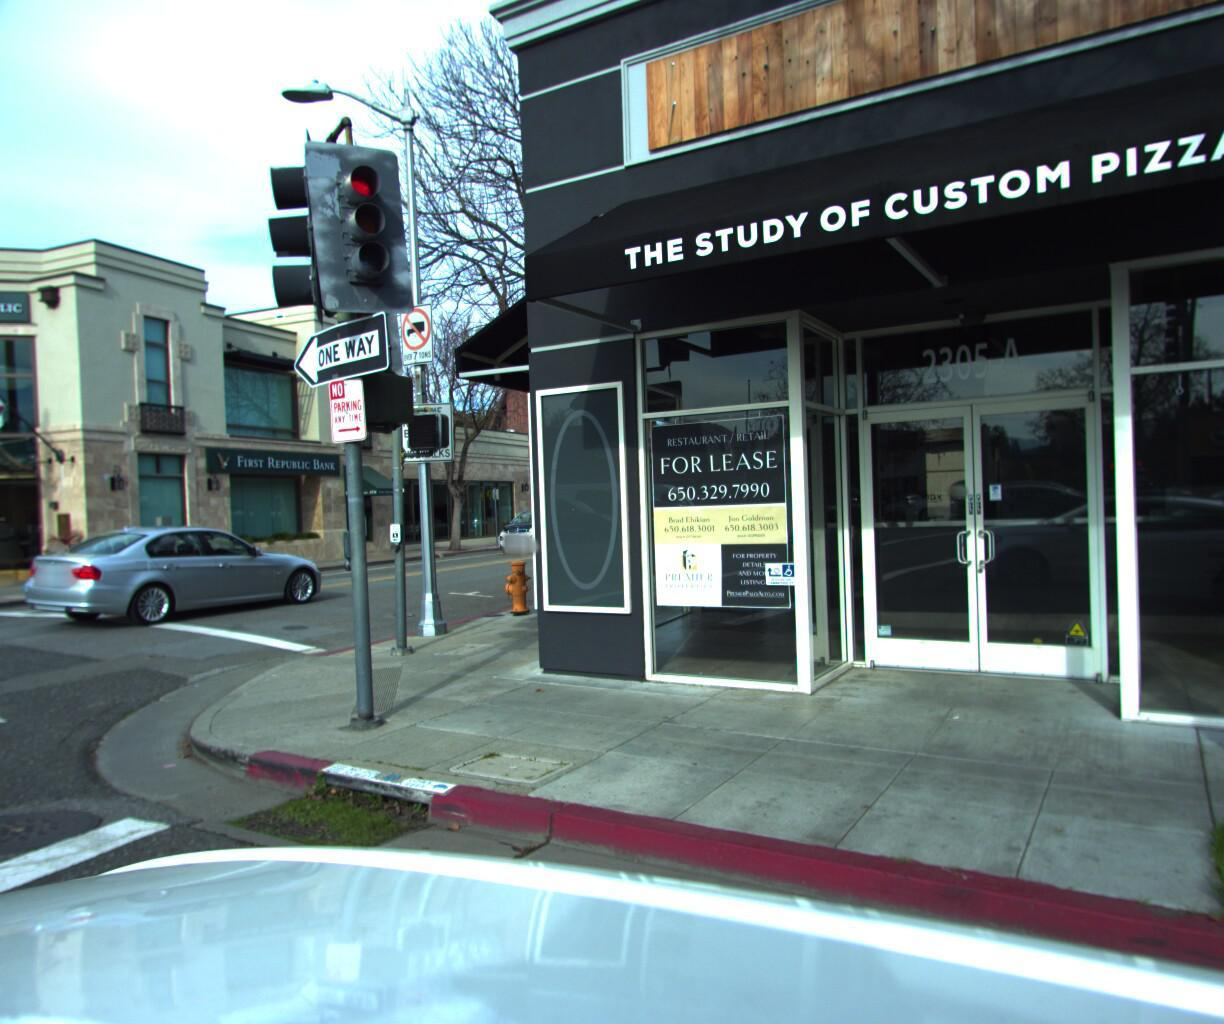car: (9, 516, 335, 635), (491, 500, 588, 548)
